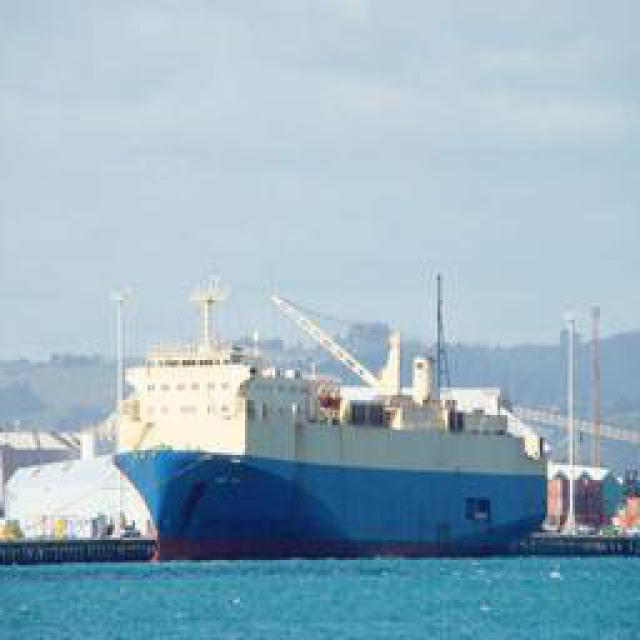Ship: (106, 276, 554, 556)
